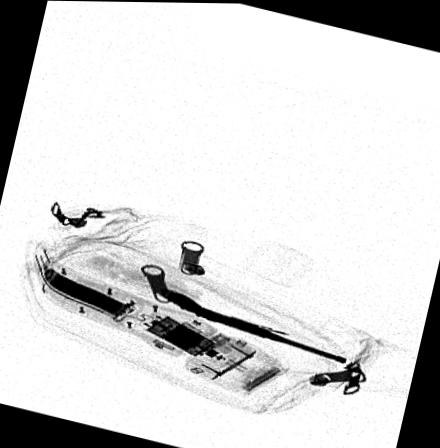Gun: (154, 284, 347, 365)
